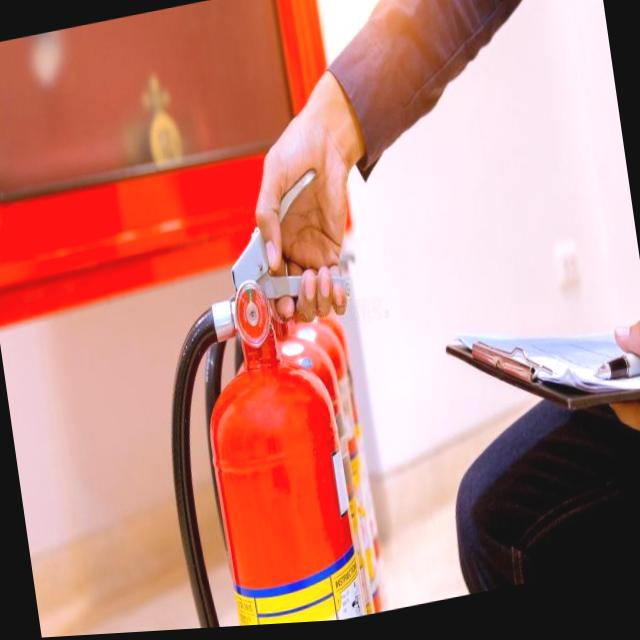FireExtinguisher: (121, 156, 400, 634)
